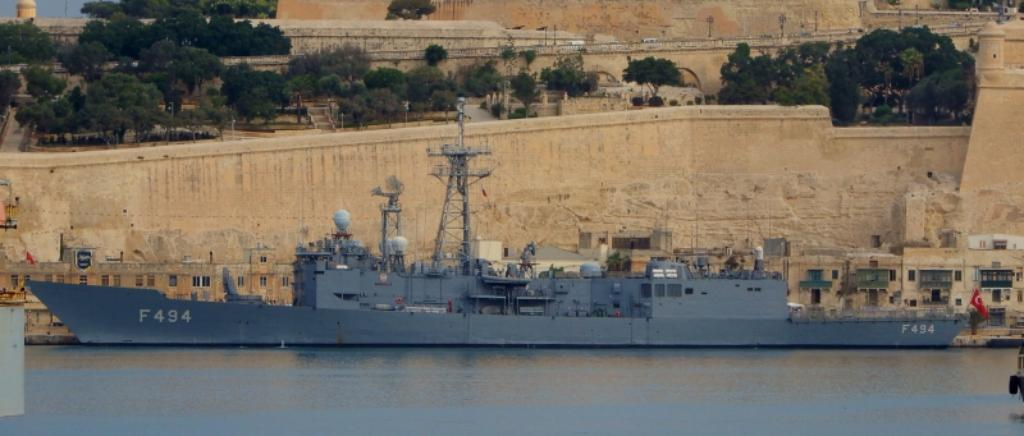Warship: (20, 92, 972, 354)
